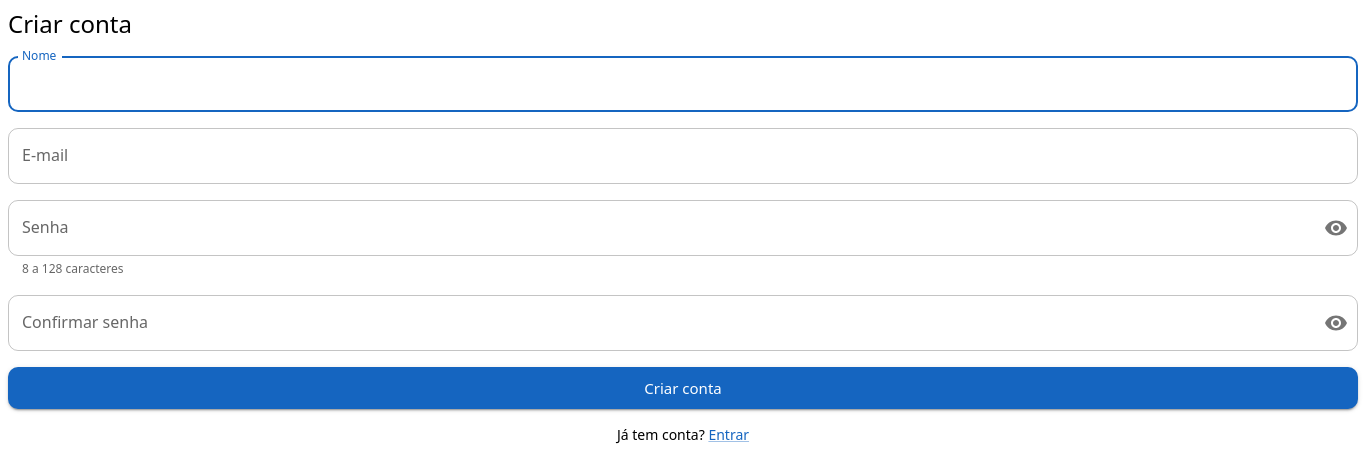
Registro: criar conta › o corpo enviado tem só nome, e-mail e senha (a confirmação NÃO vai)
Type "  Caio Souza  " into the field labelled "Nome" at (683, 84), box [8, 56, 1358, 112]
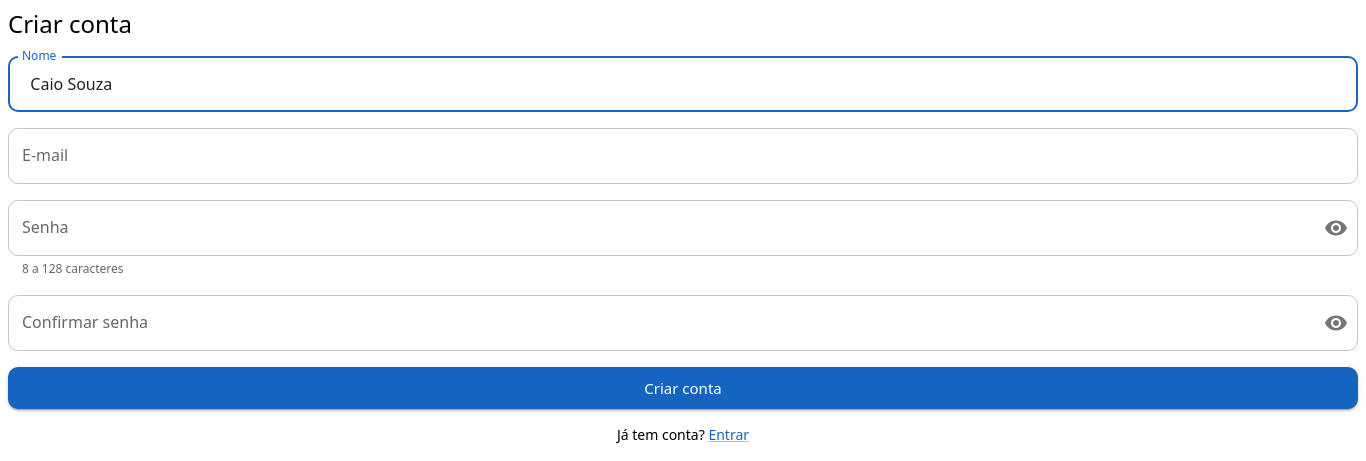
Type "  caio@example.com  " into the field labelled "E-mail" at (683, 156), box [8, 128, 1358, 184]
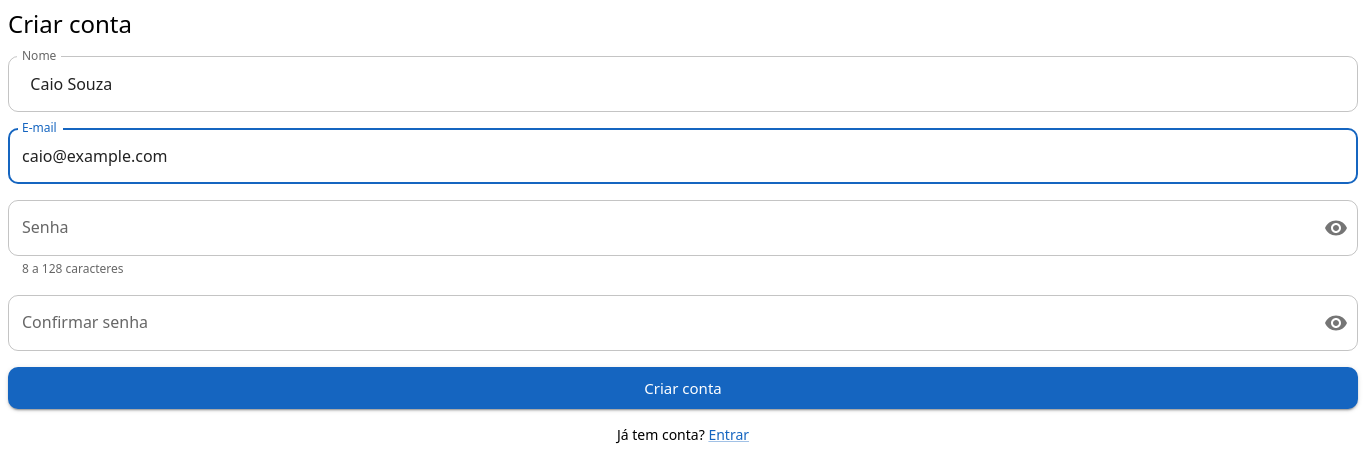
Type "uma senha longa" into the password field labelled "Senha" at (658, 228), box [8, 200, 1308, 256]
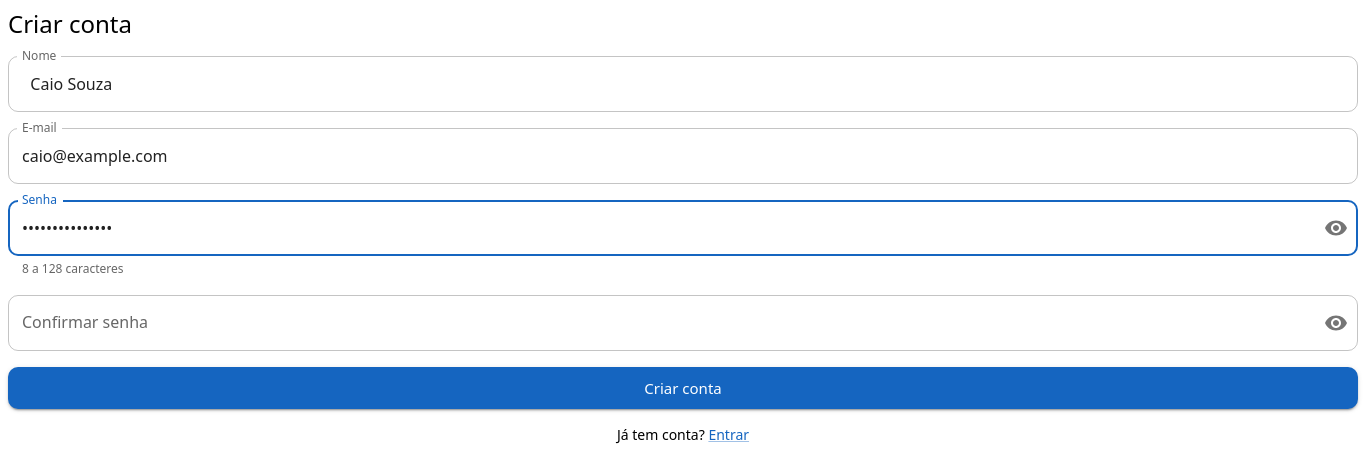
Type "uma senha longa" into the password field labelled "Confirmar senha" at (658, 323), box [8, 295, 1308, 351]
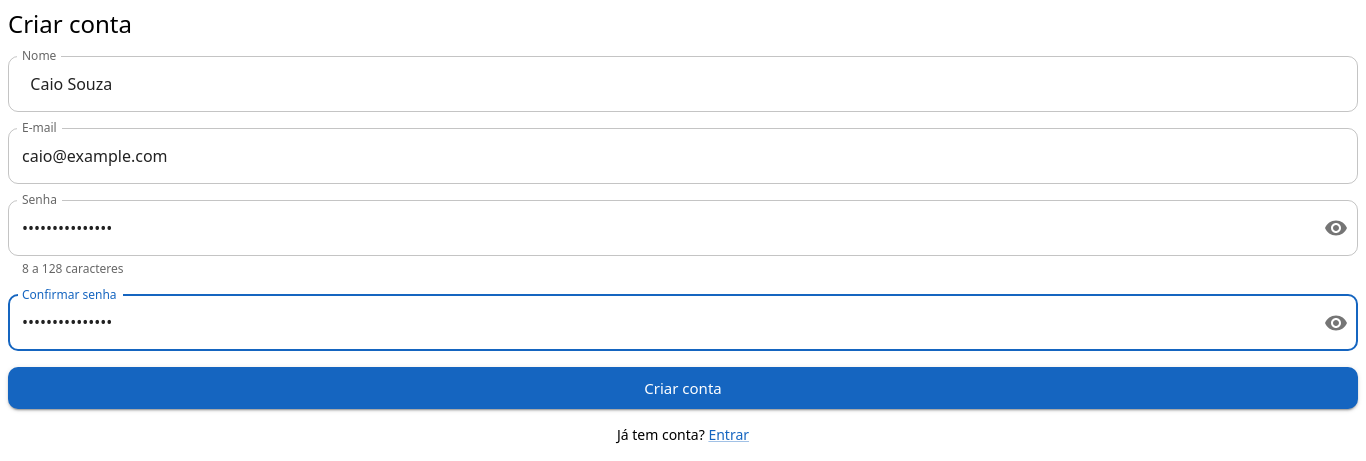
Click the button "Criar conta" at (683, 388), box [8, 367, 1358, 409]
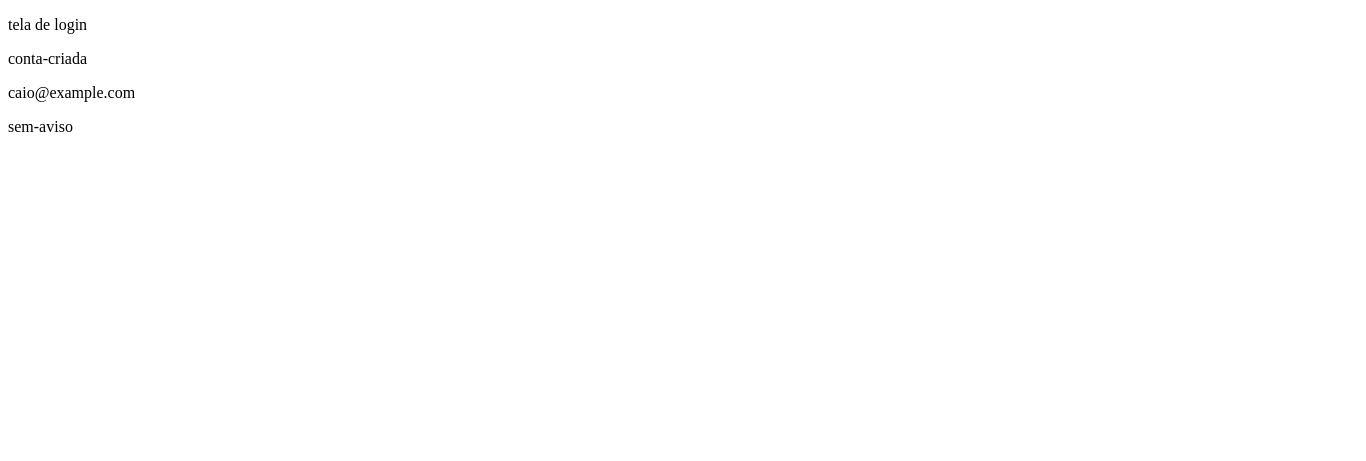
Expected: the text "tela de login" is shown, [8, 16, 87, 33]
